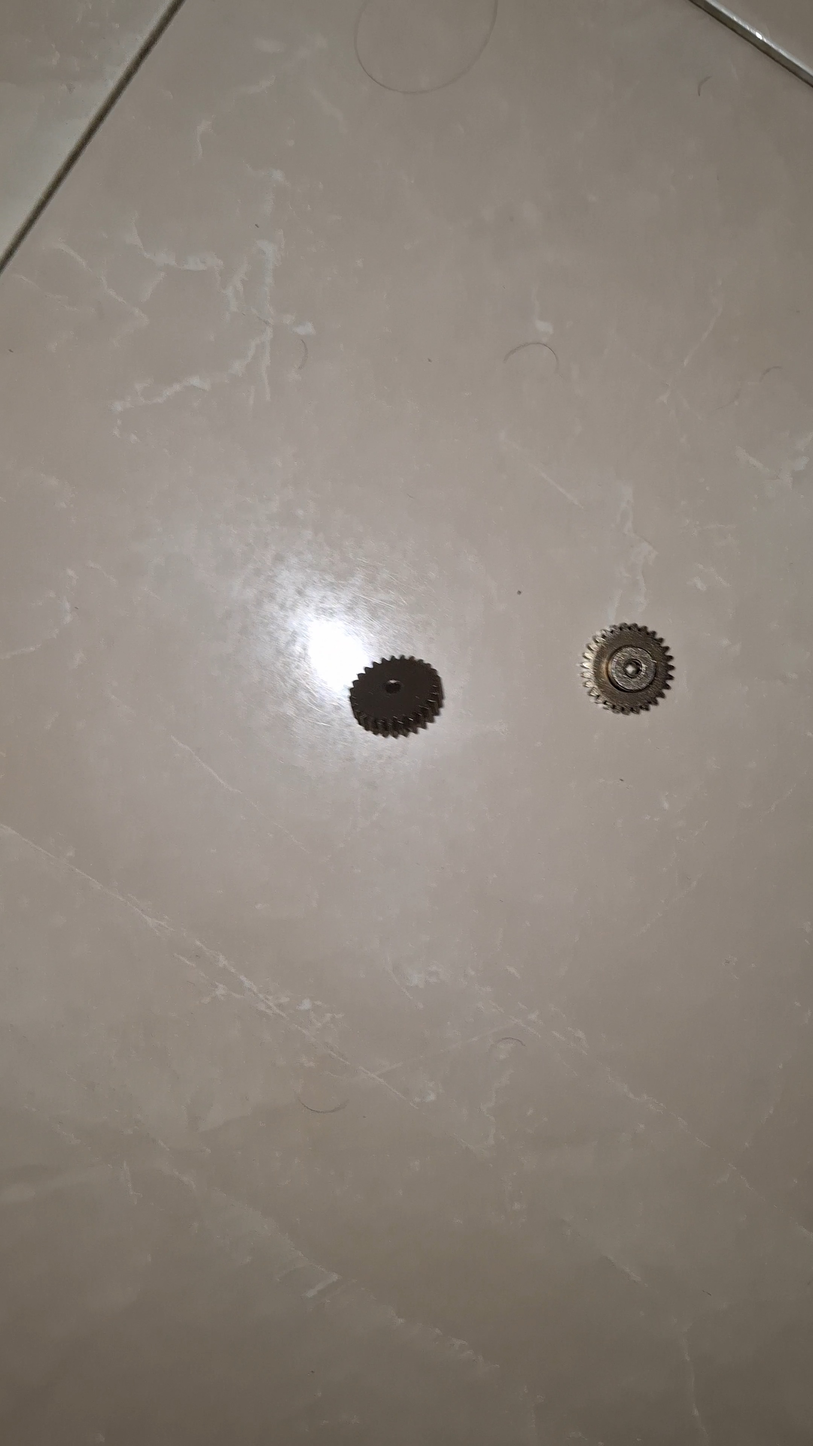spur gear: (582, 624, 673, 714), (350, 657, 442, 736)
